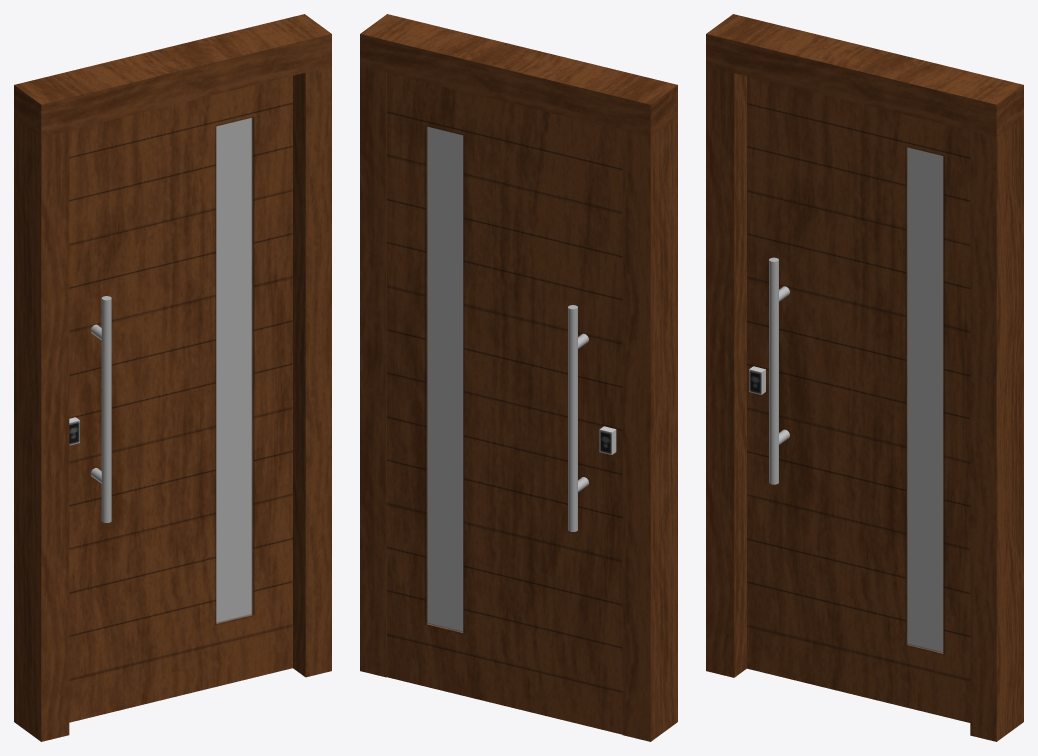
The model's file is door_with_cardreader.glb.
The picture shows the model from 3 angles, left to right: view 1: azimuth 30°, elevation 25°; view 2: azimuth 150°, elevation 25°; view 3: azimuth 330°, elevation 25°; orthographic projection.
Parts seen in each view (by area): view 1: door1, door1_frame, door1_handles; view 2: door1, door1_frame, door1_handles; view 3: door1, door1_frame, door1_handles.
Boxes of the visible parts, x1=… form: door1: x1=69, y1=76, x2=292, y2=722; door1_frame: x1=14, y1=14, x2=331, y2=741; door1_handles: x1=90, y1=296, x2=111, y2=522; door1: x1=386, y1=73, x2=622, y2=734; door1_frame: x1=360, y1=14, x2=677, y2=741; door1_handles: x1=568, y1=305, x2=588, y2=531; door1: x1=747, y1=76, x2=970, y2=722; door1_frame: x1=706, y1=14, x2=1023, y2=741; door1_handles: x1=769, y1=257, x2=789, y2=484.
Bounding box in the file's own units: 8.23 × 17.25 × 2.06.
1 material, 1 textured.
